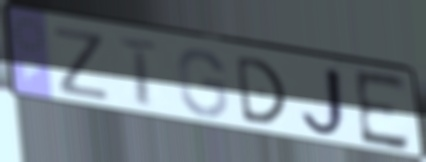D: (232, 54, 290, 127)
E: (351, 67, 413, 155)
G: (175, 46, 231, 120)
J: (297, 63, 353, 141)
T: (115, 35, 164, 111)
Z: (51, 24, 112, 104)
